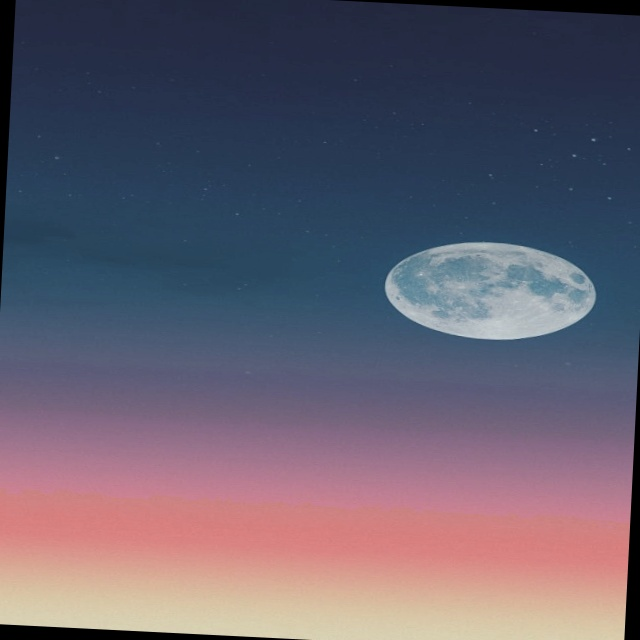foam_scum: (13, 13, 627, 627), (0, 608, 496, 640), (386, 265, 594, 339)
